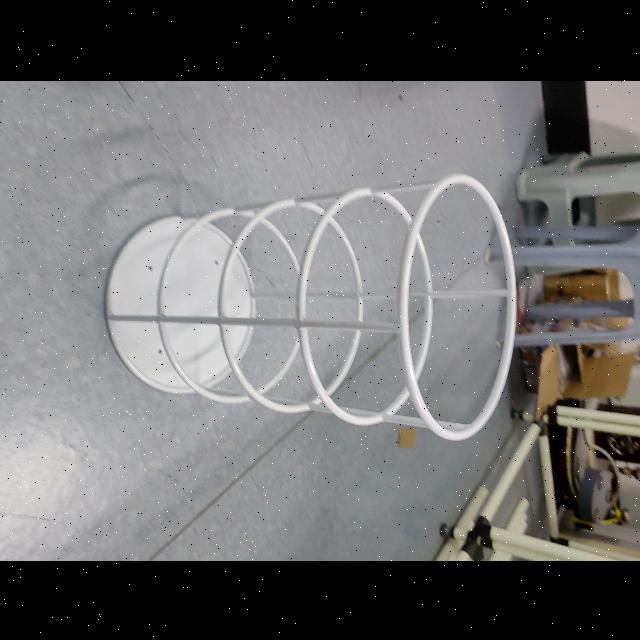S: (99, 168, 522, 442)
